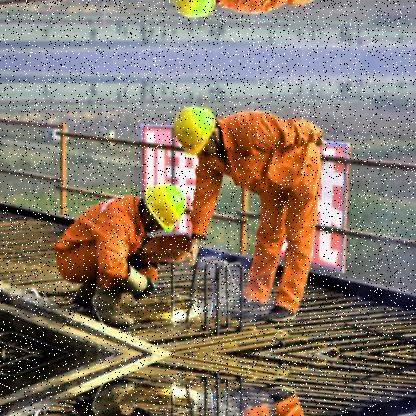Helmet: (172, 104, 226, 166), (134, 180, 188, 240), (168, 0, 222, 35)
